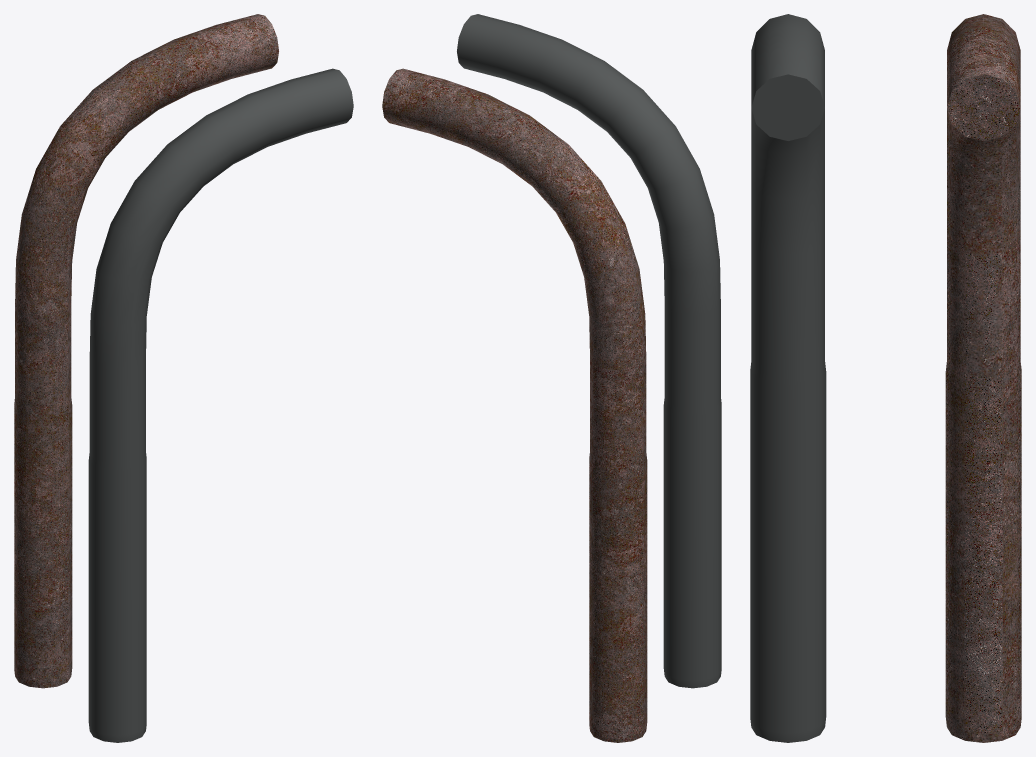
The model's file is iron.fbx.
The picture shows the model from 3 angles, left to right: view 1: azimuth 30°, elevation 25°; view 2: azimuth 150°, elevation 25°; view 3: azimuth 270°, elevation 25°; orthographic projection. The views are drawn at different scales.
Visible parts, largest first — view 1: iron, rust1; view 2: rust1, iron; view 3: rust1, iron.
Part boxes in pixels (bbox=[...]): iron: bbox=[88, 68, 353, 742]; rust1: bbox=[14, 14, 278, 688]; rust1: bbox=[382, 68, 647, 742]; iron: bbox=[457, 14, 721, 688]; rust1: bbox=[945, 14, 1021, 742]; iron: bbox=[750, 14, 826, 742].
Bounding box in the file's own units: 44.07 × 103 × 32.02.
2 materials, 2 textured.
